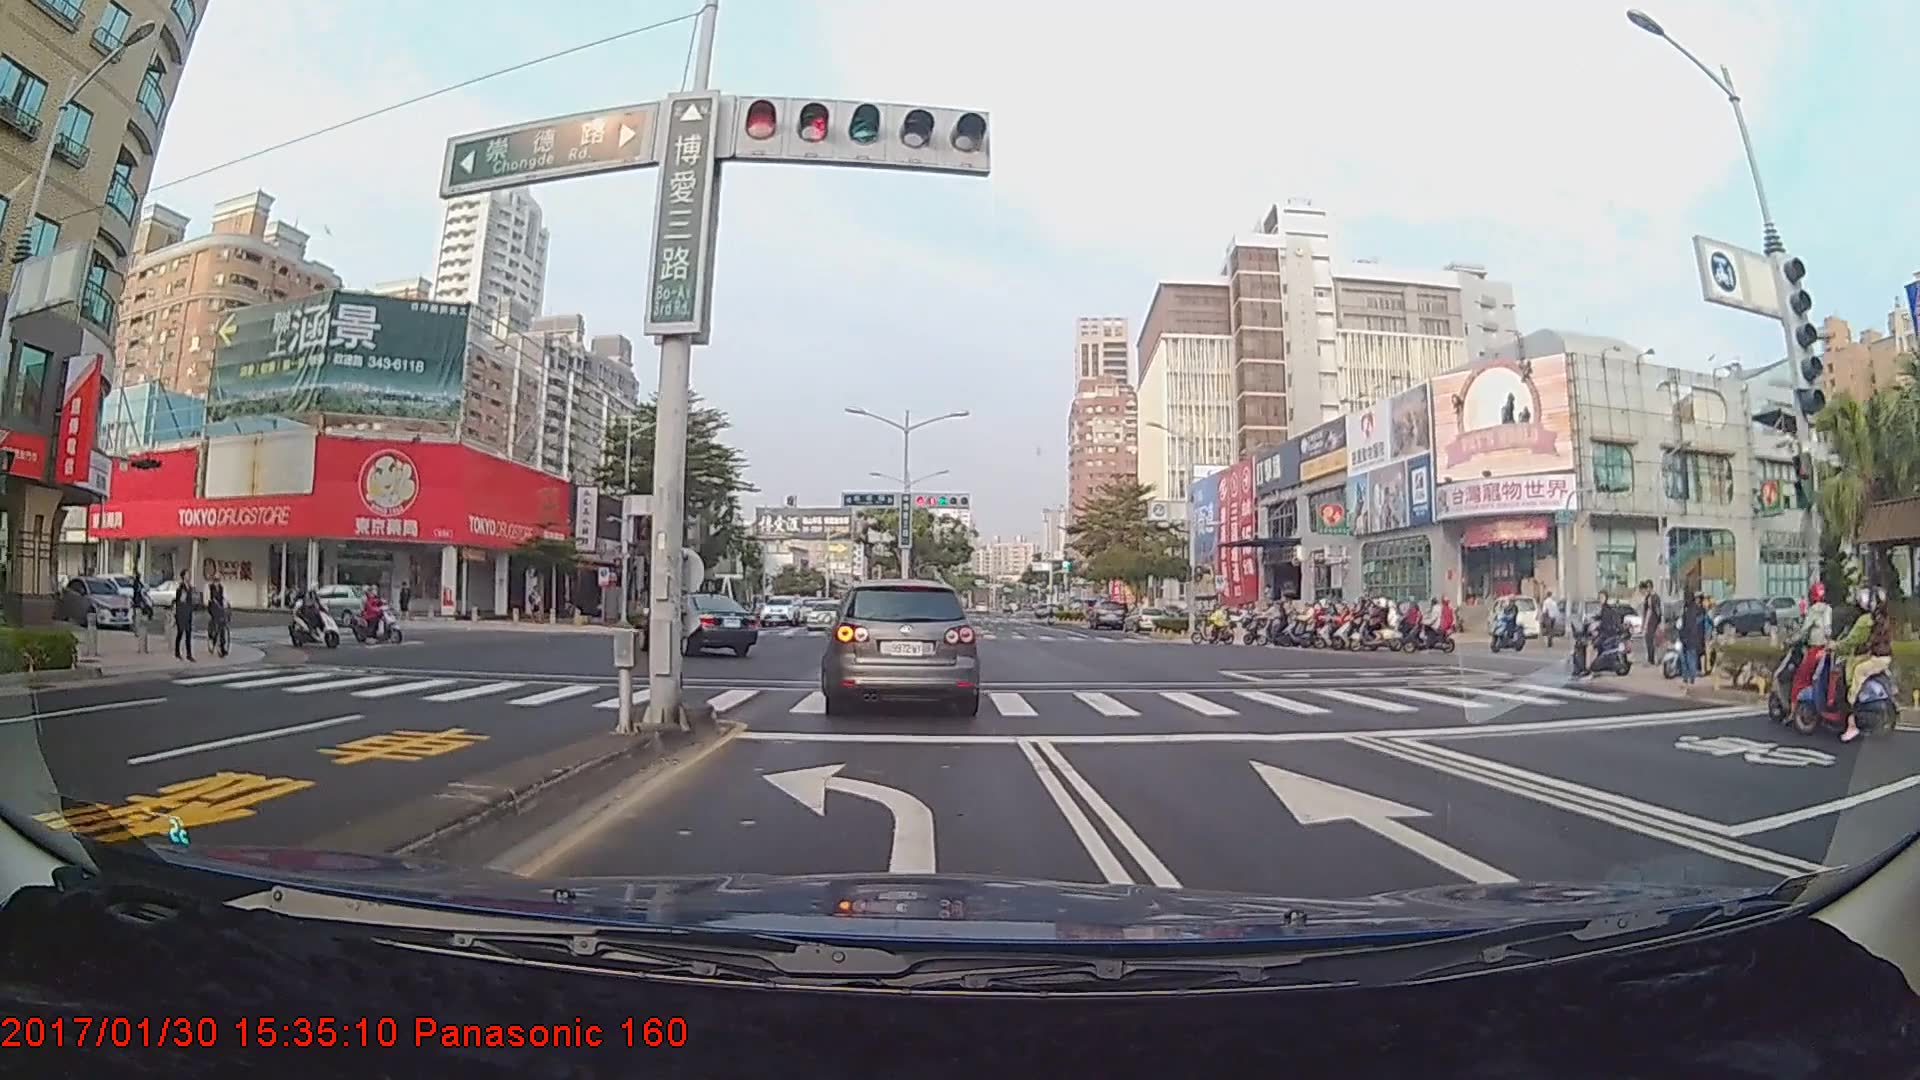pedestrian: (1673, 576, 1709, 694), (1644, 579, 1666, 669), (175, 572, 195, 664)
rider: (1787, 594, 1898, 750), (1762, 581, 1854, 729), (1567, 595, 1639, 676), (1658, 585, 1716, 685), (280, 574, 347, 651), (343, 578, 405, 641), (200, 566, 240, 655), (1407, 593, 1455, 656), (1482, 596, 1533, 652), (1360, 596, 1405, 650), (1237, 595, 1286, 642), (1189, 605, 1240, 646), (1327, 596, 1368, 643), (1311, 601, 1353, 646), (1320, 600, 1357, 645)
vehicle: (818, 574, 982, 718), (634, 590, 759, 655), (287, 581, 384, 624), (1087, 599, 1129, 630)
